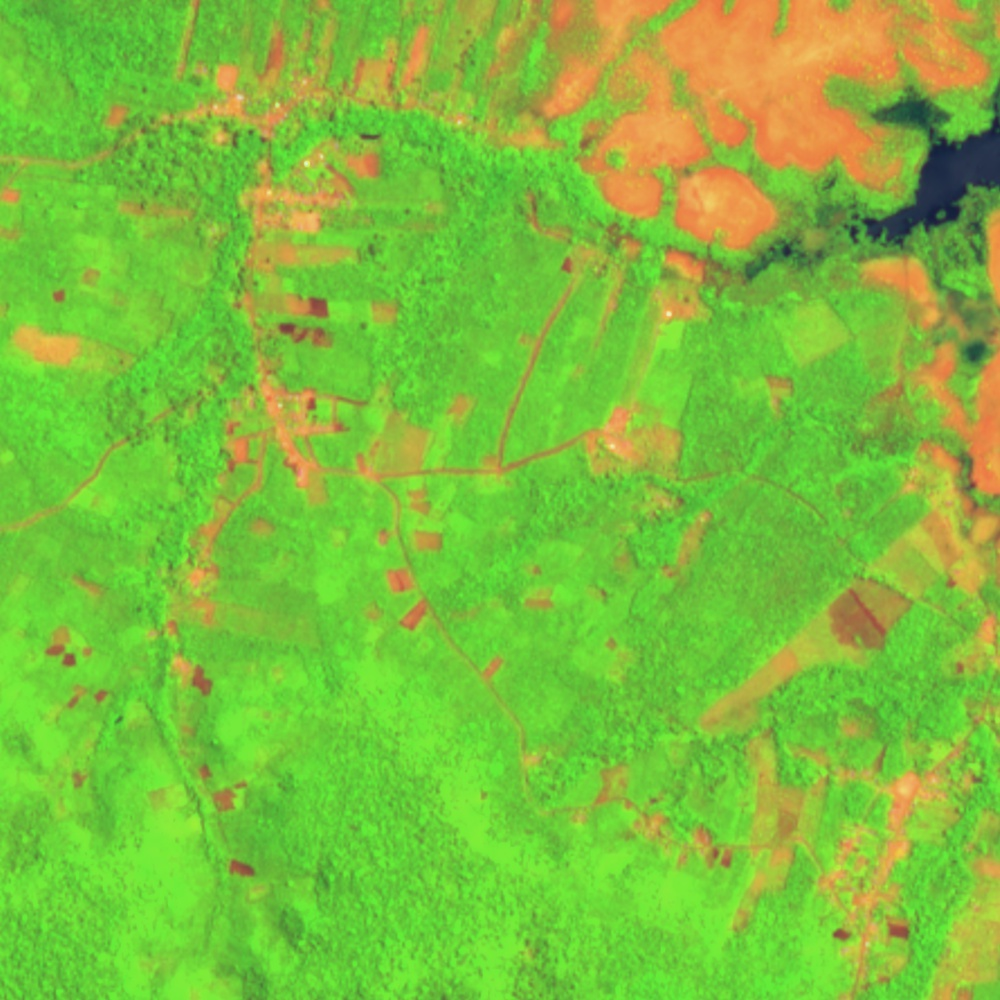legal: (478, 1, 999, 252), (163, 133, 387, 627), (729, 706, 1000, 1000), (38, 561, 267, 902), (695, 496, 1000, 739), (167, 1, 547, 130), (513, 479, 714, 655), (359, 405, 459, 638), (568, 762, 742, 870), (613, 248, 713, 400), (1, 311, 148, 382), (575, 405, 687, 480), (762, 293, 857, 374), (110, 191, 231, 252), (593, 260, 636, 358), (47, 266, 134, 311), (761, 373, 800, 417), (1, 185, 24, 241), (522, 739, 556, 774), (477, 650, 509, 683), (95, 99, 131, 126), (452, 390, 477, 427), (560, 251, 594, 273), (518, 328, 539, 347)
